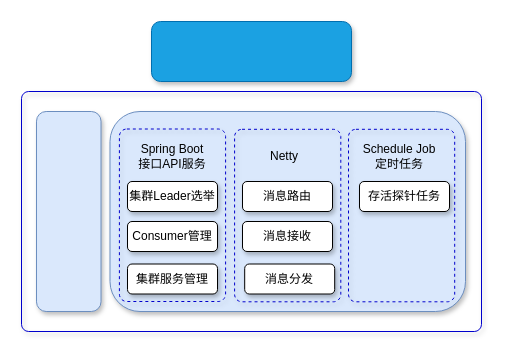
The diagram is 505 pixels wide and 356 high, and some of its shapes have lost their labels. Each missing label, with the centre of its shape:
Krest-MQ 技术架构: point (252, 52)
业 务 逻 辑 层: point (69, 212)
